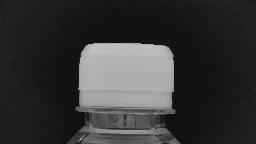Broken Cap: (74, 36, 178, 110)
